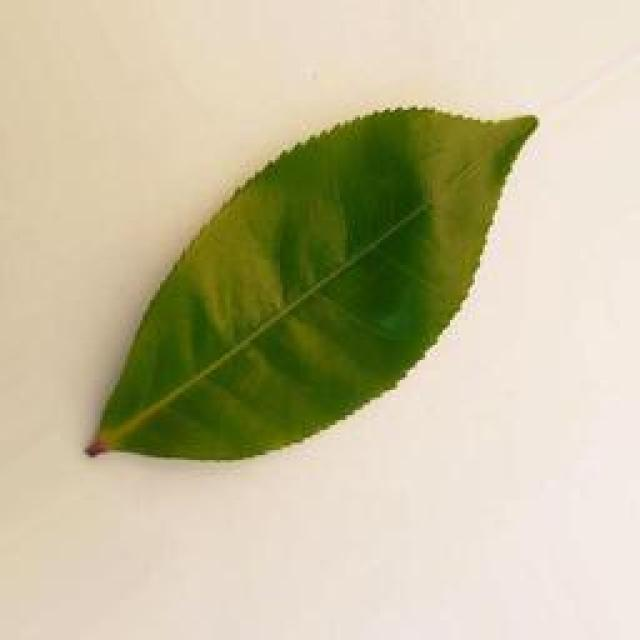Healthy: (86, 79, 564, 474)
